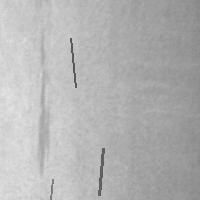inclusion: (31, 23, 58, 184), (68, 36, 77, 89), (97, 146, 105, 197), (48, 177, 54, 200)
